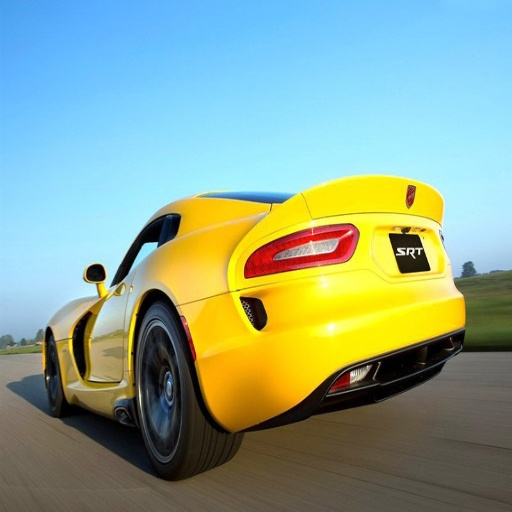back_bumper: (199, 315, 327, 428)
trunk: (246, 212, 442, 380)
